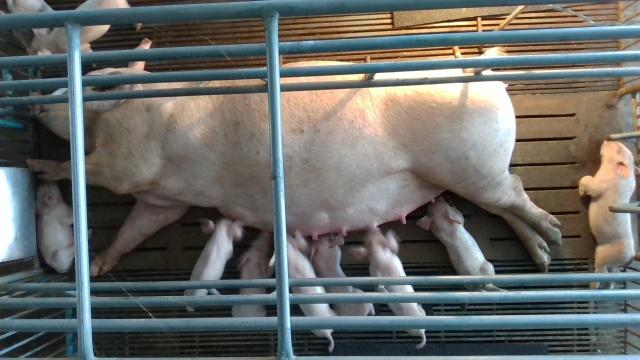piglet: (349, 230, 427, 350), (578, 141, 640, 290), (269, 233, 336, 353), (416, 201, 496, 291), (28, 0, 143, 55), (183, 219, 245, 312), (310, 234, 375, 315), (231, 232, 270, 318), (36, 184, 73, 273)
sow-sleep-lactate: (26, 38, 563, 274)
